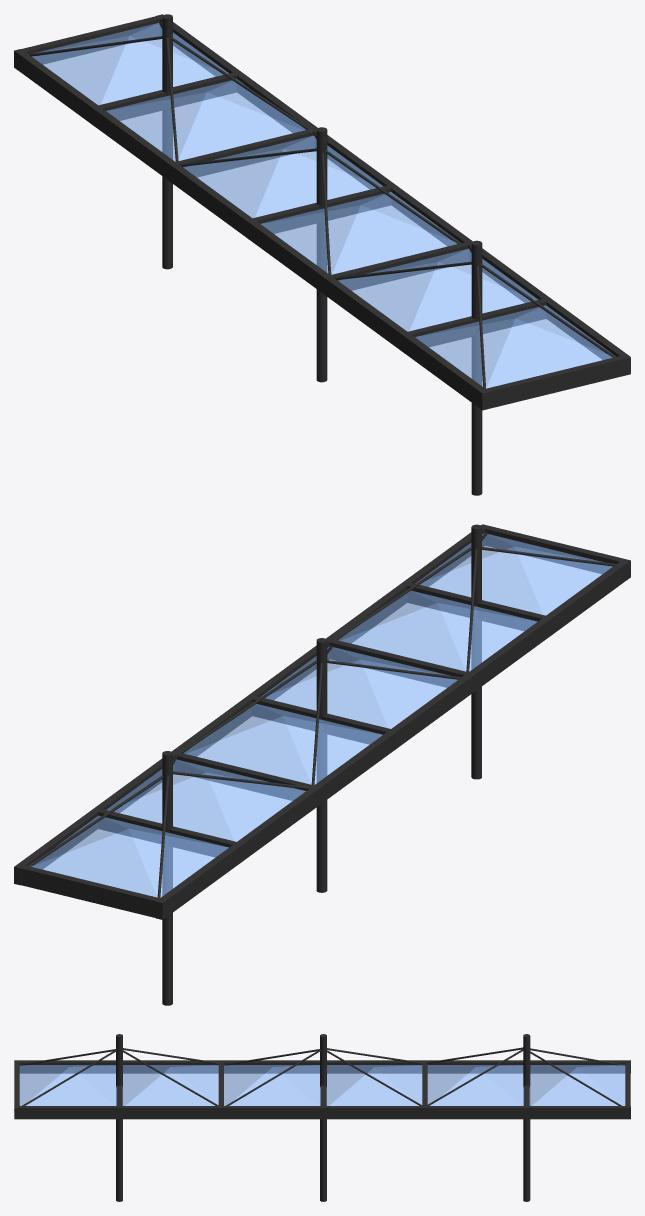
Rendered from ZastavkaNPrace.glb.
3 views of the same model, one above another, from view 1: azimuth 30°, elevation 25°; view 2: azimuth 150°, elevation 25°; view 3: azimuth 270°, elevation 25° (orthographic). The views are drawn at different scales.
Visible parts, largest first — view 1: DRam2, Strecha1, Strecha5, Strecha3, DRam1, Strecha2, Strecha4, Strecha6, Ram1, Ram4, Ram6, Ram2 (+6 smaller); view 2: DRam2, Strecha2, Strecha4, Strecha6, DRam1, Strecha5, Strecha3, Strecha1, Ram7, Ram4, Ram2, Ram6 (+6 smaller); view 3: DRam1, DRam2, Strecha1, Strecha5, Strecha3, Strecha6, Strecha2, Strecha4, Pilir3, Pilir1, Pilir2, Ram1 (+9 smaller).
Part boxes in pixels (x1=…): DRam2: x1=14, y1=49, x2=487, y2=406; Strecha1: x1=415, y1=305, x2=614, y2=388; Strecha5: x1=106, y1=79, x2=305, y2=161; Strecha3: x1=261, y1=192, x2=457, y2=274; DRam1: x1=156, y1=14, x2=629, y2=359; Strecha2: x1=338, y1=249, x2=538, y2=331; Strecha4: x1=183, y1=135, x2=382, y2=217; Strecha6: x1=32, y1=23, x2=228, y2=105; Ram1: x1=478, y1=355, x2=630, y2=410; Ram4: x1=245, y1=185, x2=393, y2=239; Ram6: x1=91, y1=71, x2=241, y2=126; Ram2: x1=400, y1=298, x2=551, y2=353; DRam2: x1=155, y1=559, x2=629, y2=919; Strecha2: x1=338, y1=590, x2=537, y2=671; Strecha4: x1=183, y1=704, x2=382, y2=784; Strecha6: x1=31, y1=815, x2=228, y2=897; DRam1: x1=14, y1=525, x2=485, y2=885; Strecha5: x1=106, y1=759, x2=305, y2=841; Strecha3: x1=261, y1=646, x2=457, y2=728; Strecha1: x1=415, y1=533, x2=612, y2=615; Ram7: x1=15, y1=864, x2=166, y2=919; Ram4: x1=246, y1=694, x2=398, y2=750; Ram2: x1=402, y1=581, x2=552, y2=636; Ram6: x1=94, y1=807, x2=243, y2=863; DRam1: x1=15, y1=1106, x2=630, y2=1119; DRam2: x1=15, y1=1060, x2=630, y2=1073; Strecha1: x1=19, y1=1065, x2=116, y2=1105; Strecha5: x1=427, y1=1065, x2=523, y2=1105; Strecha3: x1=224, y1=1065, x2=320, y2=1105; Strecha6: x1=529, y1=1065, x2=625, y2=1105; Strecha2: x1=122, y1=1065, x2=218, y2=1105; Strecha4: x1=326, y1=1065, x2=422, y2=1105; Pilir3: x1=523, y1=1034, x2=530, y2=1201; Pilir1: x1=116, y1=1034, x2=122, y2=1201; Pilir2: x1=320, y1=1034, x2=326, y2=1201; Ram1: x1=14, y1=1060, x2=19, y2=1119.
Size of the model in its own units: 10.61 by 17.05 by 57.86.
Materials: 2 (2 with a texture image).
